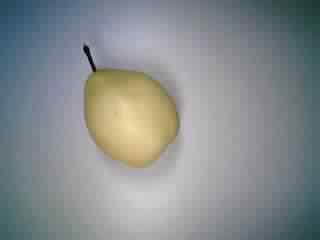pear: (67, 37, 187, 176)
